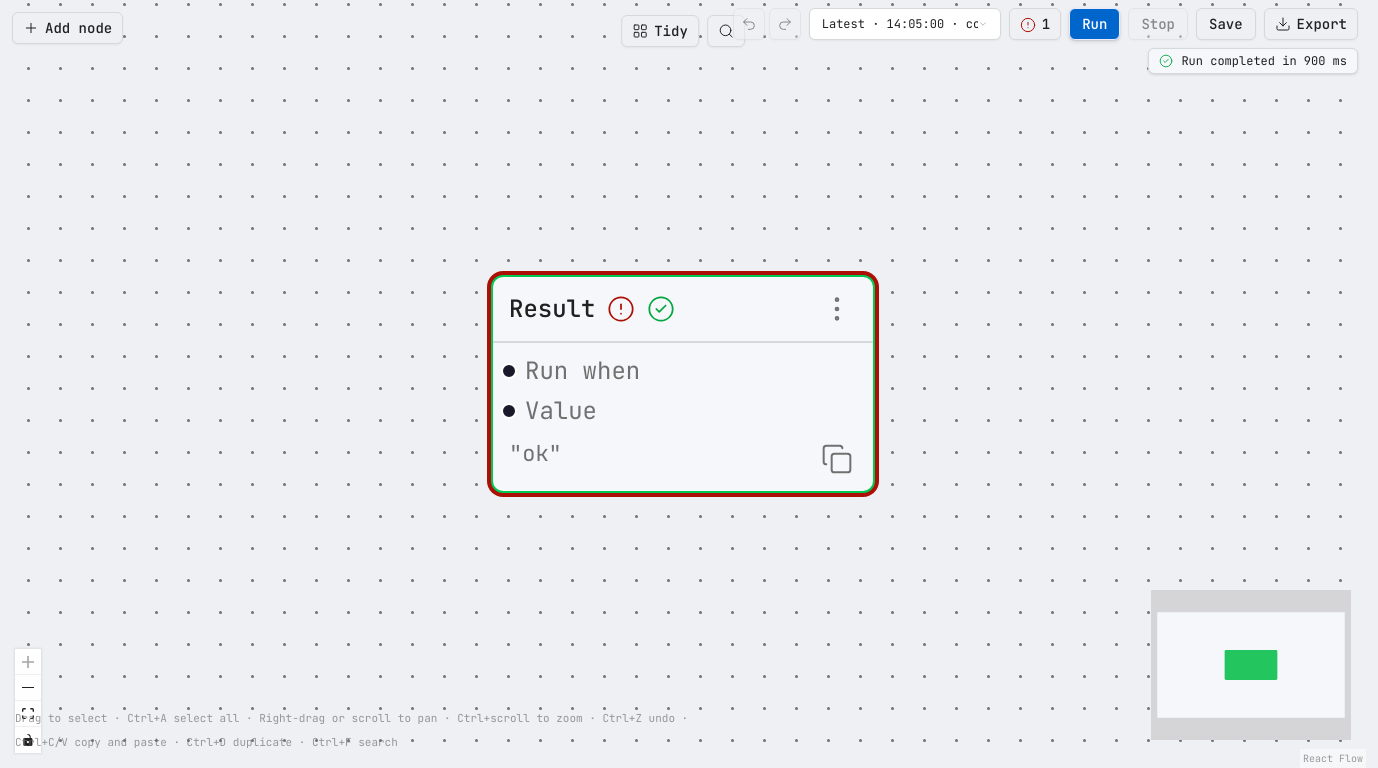
Scenario: FlowPane run history › switches the canvas, panel result and strip to a past run and back
Click the dropdown named "Run history": click(905, 24) [809, 8, 1001, 40]
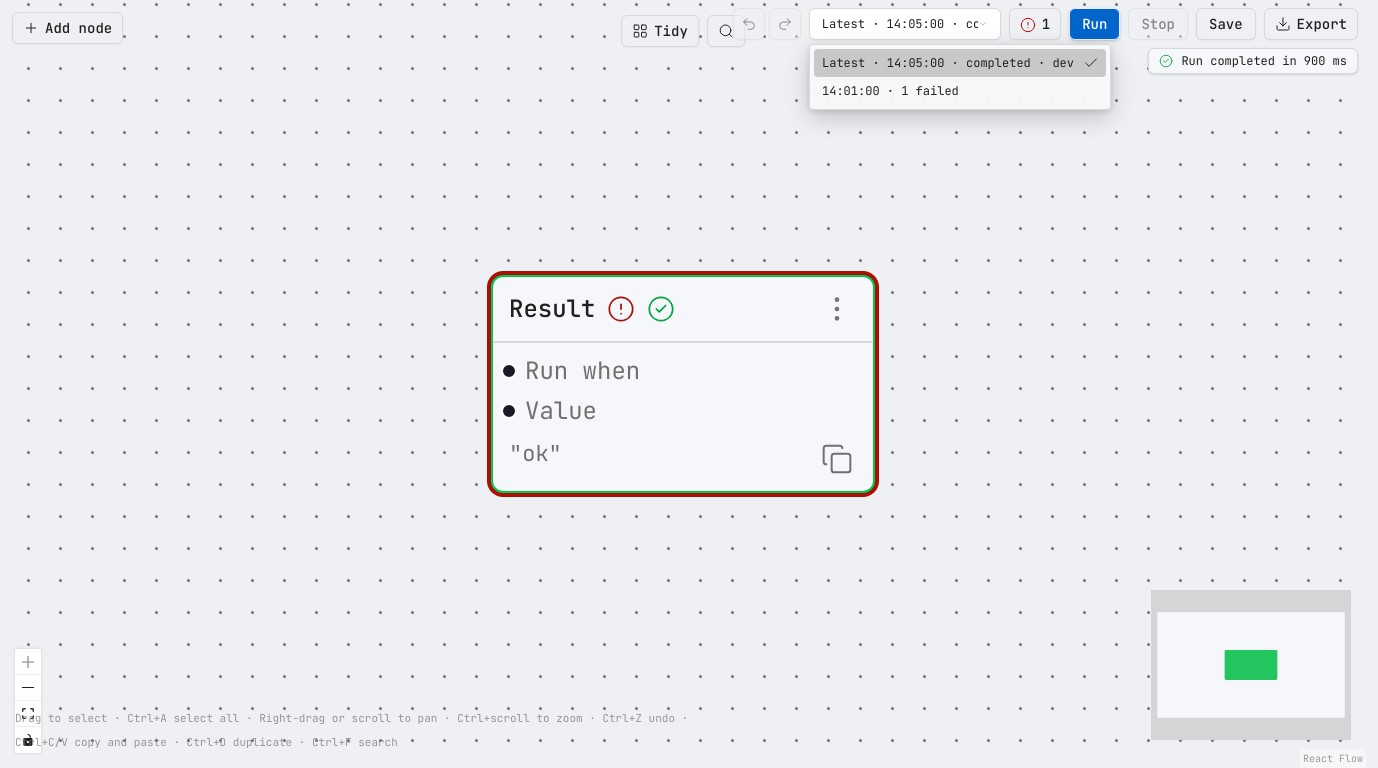
Click the option "14:01:00 · 1 failed": click(890, 91) [822, 83, 959, 99]
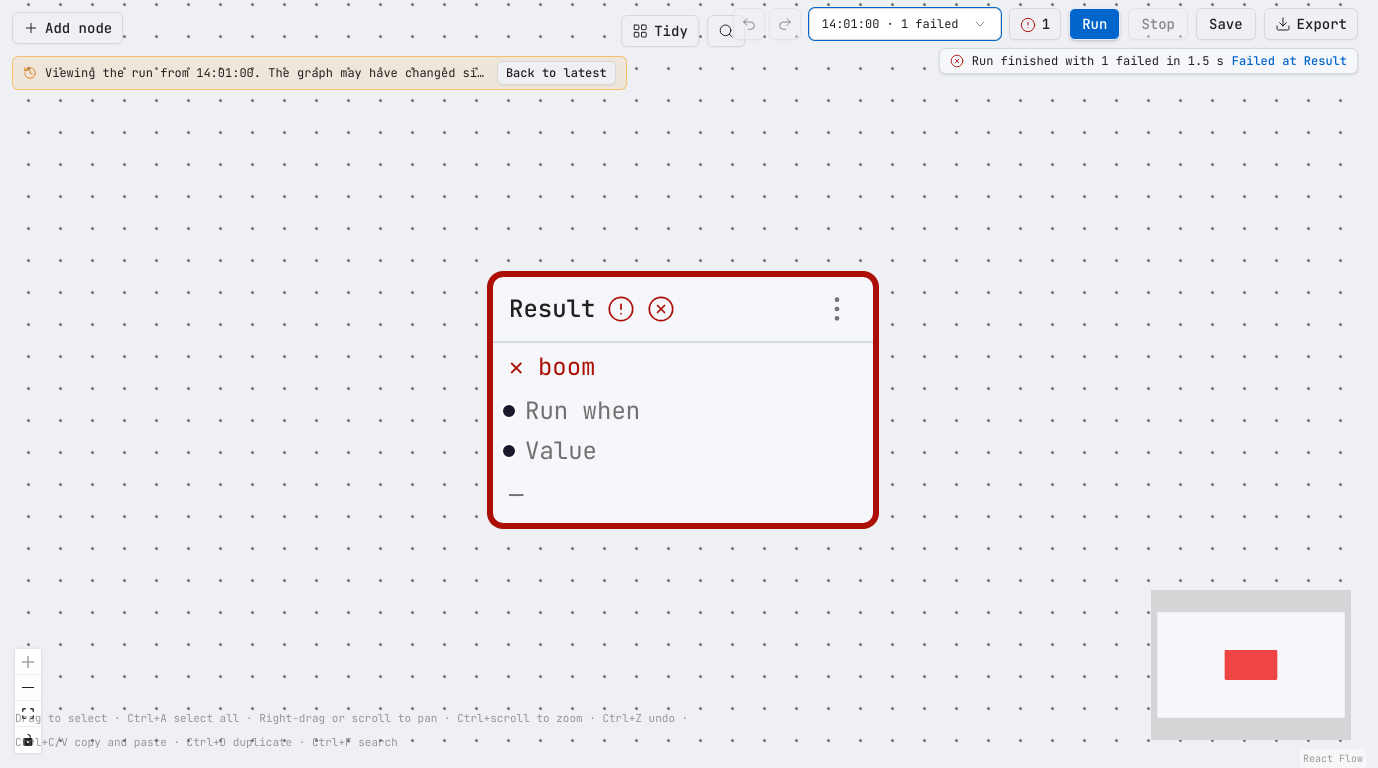
Now the message with test id "viewed-run-banner" shows "Viewing the run from 14:01:00. The graph may have changed since.", box [12, 56, 627, 90]
Now the element with test id "run-result-strip" shows "Run finished with 1 failed in 1.5 s", box [972, 53, 1224, 69]
Click the dropdown named "Run history": click(905, 24) [809, 8, 1001, 40]
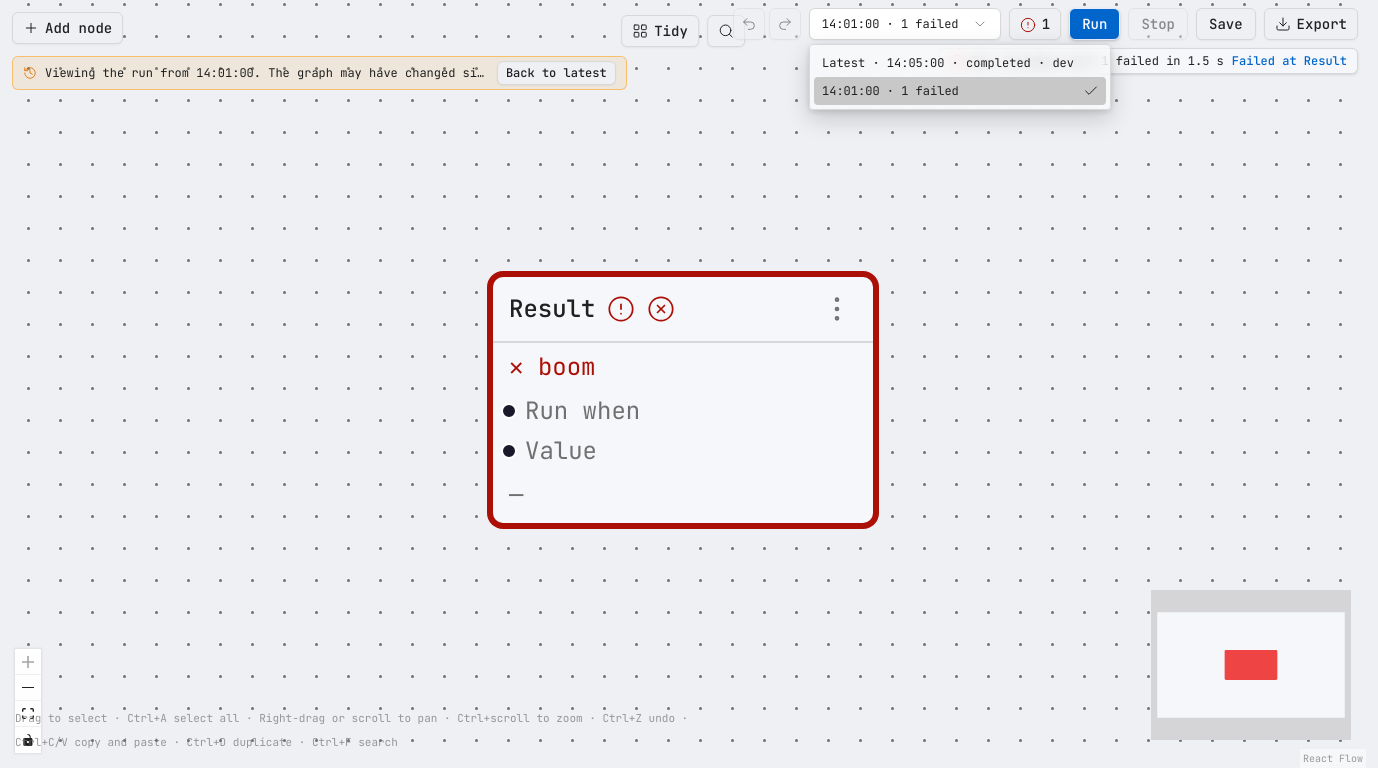
Click the option "Latest · 14:05:00 · completed · dev": click(948, 63) [822, 55, 1074, 71]
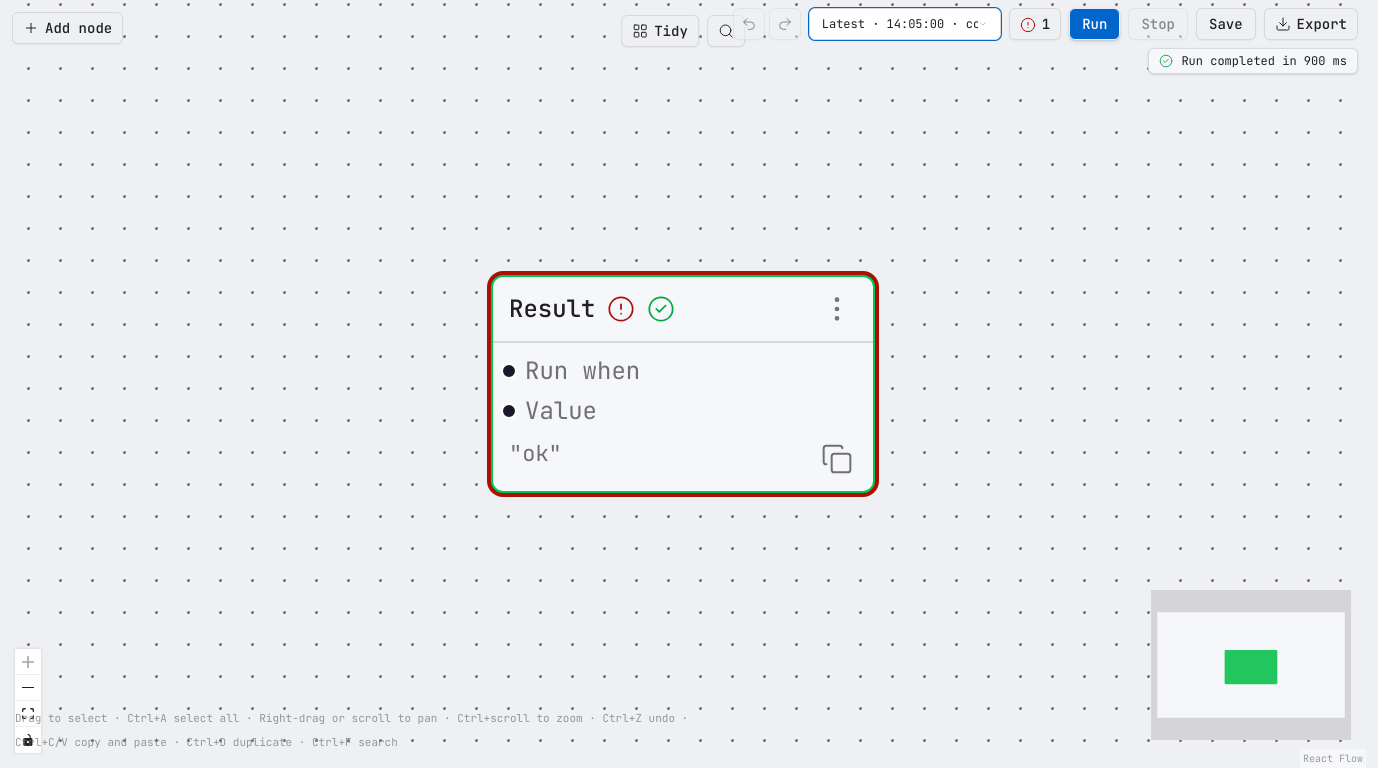
Now the message with test id "viewed-run-banner" is gone
